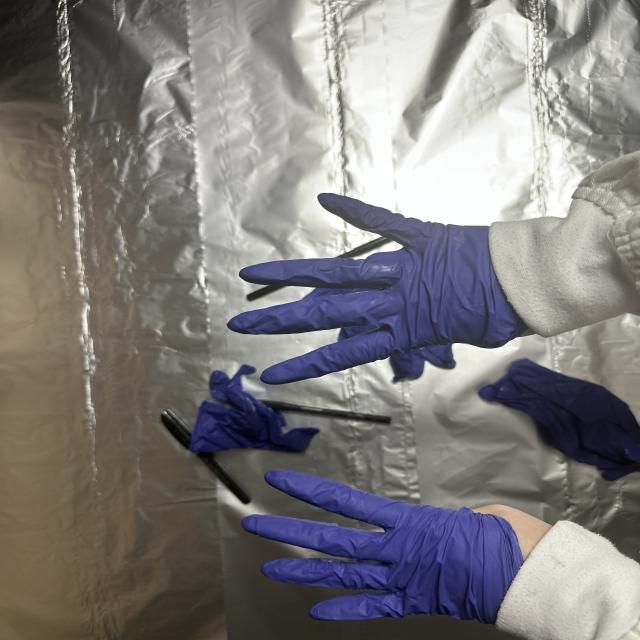glove_partial: (228, 190, 536, 386), (240, 466, 563, 640)
